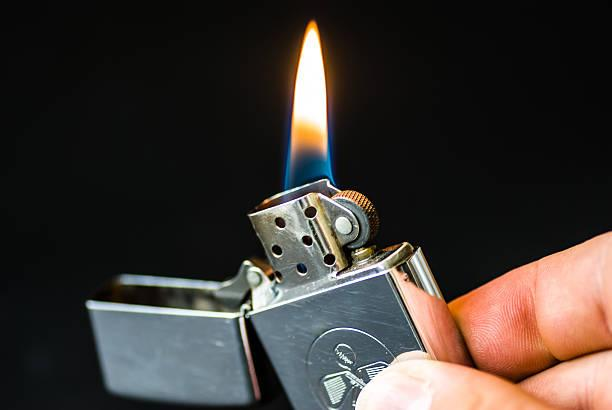Fire: (284, 16, 338, 186)
